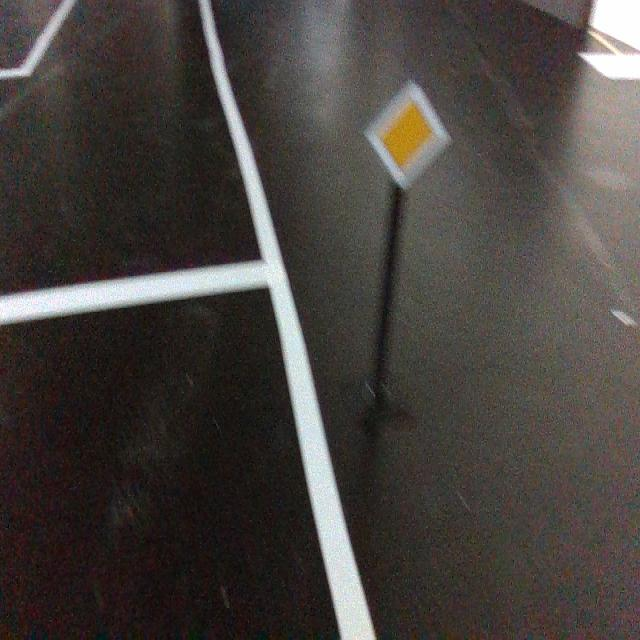priority-sign: (364, 78, 452, 193)
